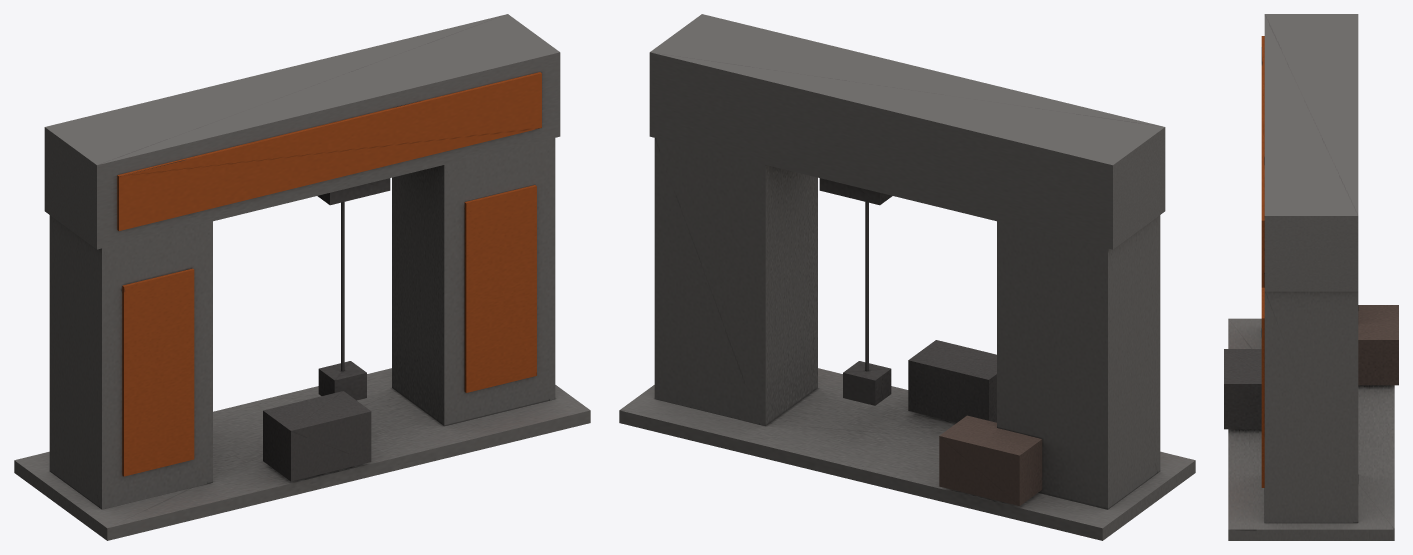
File: dock_crane_script.glb
3 views of the same model, side by side, from view 1: azimuth 30°, elevation 25°; view 2: azimuth 150°, elevation 25°; view 3: azimuth 270°, elevation 25° (orthographic). The views are drawn at different scales.
Visible parts, largest first — view 1: Cube; view 2: Cube; view 3: Cube.
Boxes of the visible parts, x1,y1,x2,y2 form: Cube: (14,14,590,540); Cube: (619,14,1195,540); Cube: (1224,14,1398,540).
Size of the model in its own units: 24 by 17 by 8.4.
Materials: 1 (1 with a texture image).
